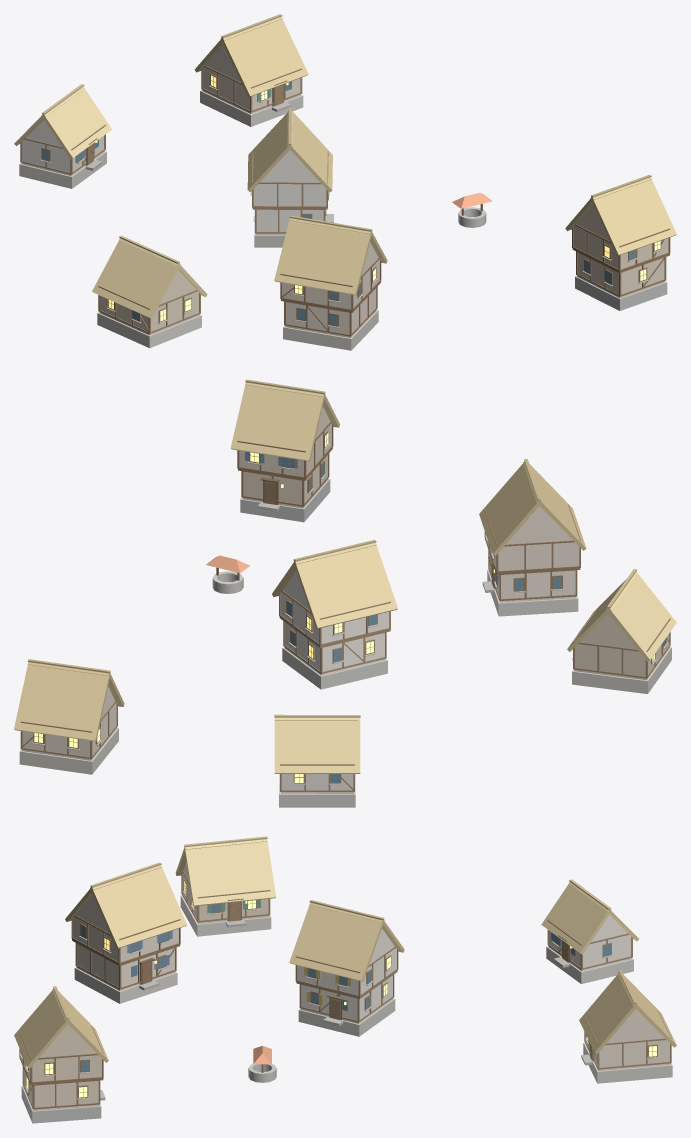
Rendered from struct_3_8.glb.
The picture shows the model from 3 angles, top to bottom: view 1: azimuth 30°, elevation 25°; view 2: azimuth 150°, elevation 25°; view 3: azimuth 270°, elevation 25°; orthographic projection. The views are drawn at different scales.
Visible parts, largest first — view 1: HousesNear, Landmarks; view 2: HousesNear, Landmarks; view 3: HousesNear, Landmarks.
Part boxes in pixels (x1,y1,x2,y2): HousesNear: (14,14,676,350); Landmarks: (452,192,492,227); HousesNear: (14,379,676,807); Landmarks: (206,555,250,593); HousesNear: (14,836,676,1123); Landmarks: (248,1046,276,1082).
Size of the model in its own units: 51.98 by 11.41 by 63.52.
